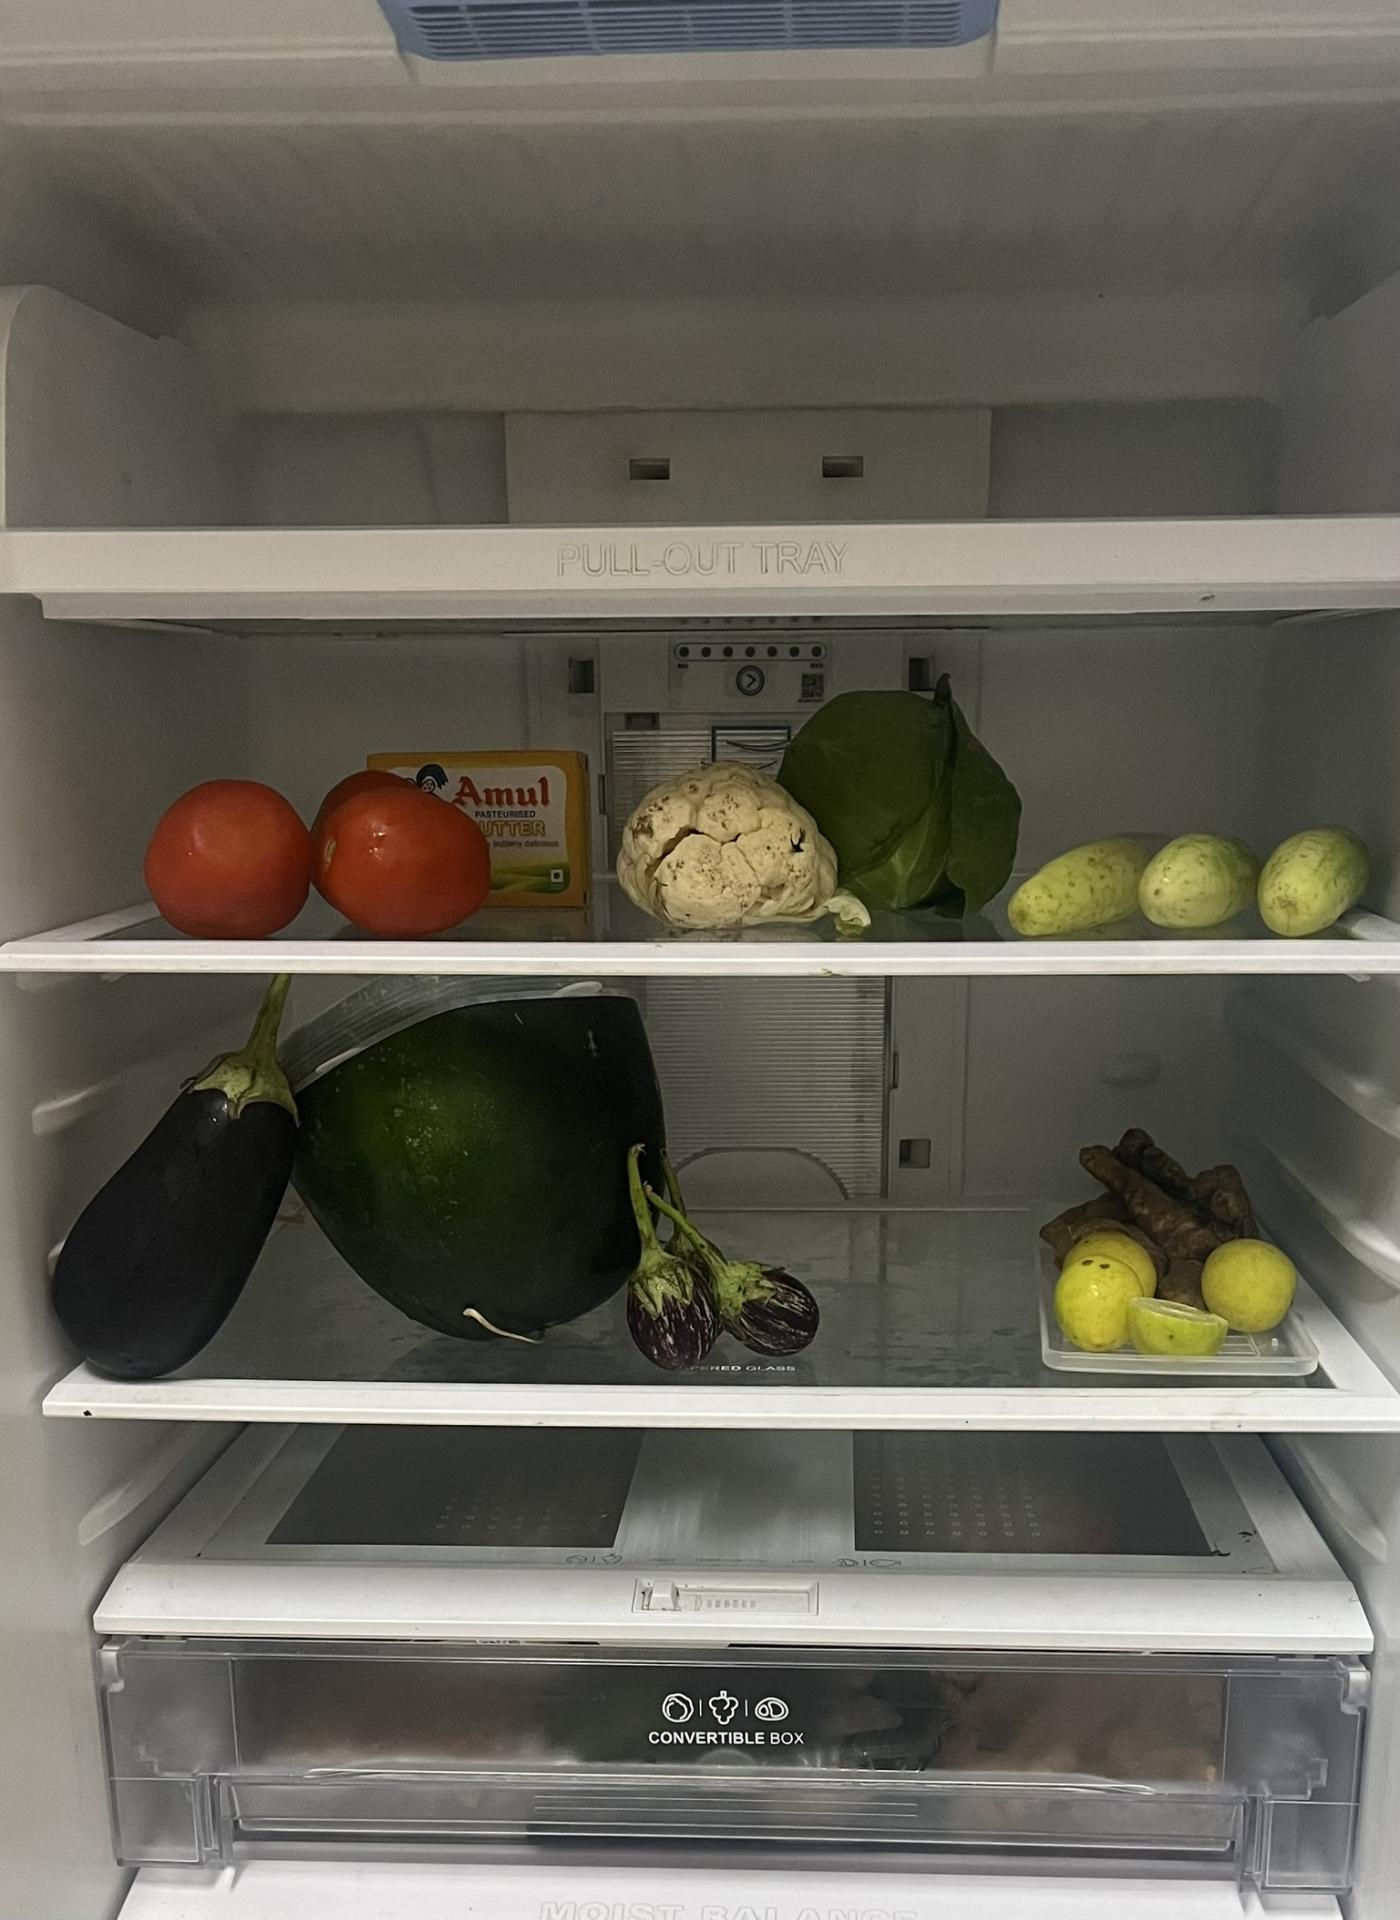brinjal: (49, 972, 301, 1377), (628, 1146, 819, 1361)
butter: (365, 751, 589, 912)
cabbage: (775, 690, 1018, 917)
cauliflower: (614, 760, 857, 930)
cucumber: (1009, 832, 1376, 935)
ginger: (1044, 1125, 1267, 1310)
lemon: (1056, 1230, 1302, 1357)
tomato: (145, 769, 492, 936)
watermelon: (288, 976, 668, 1343)
